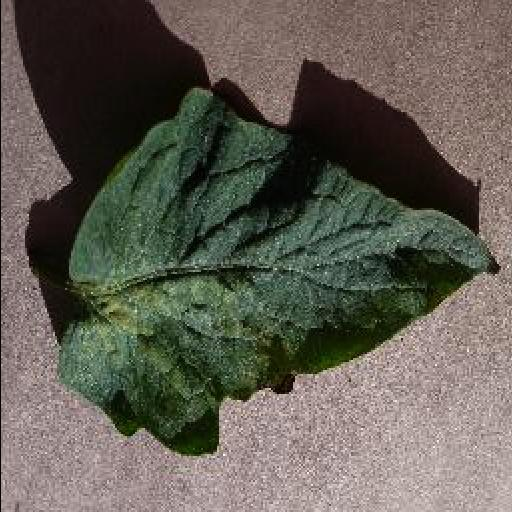disease_tomato: (56, 88, 504, 458)
